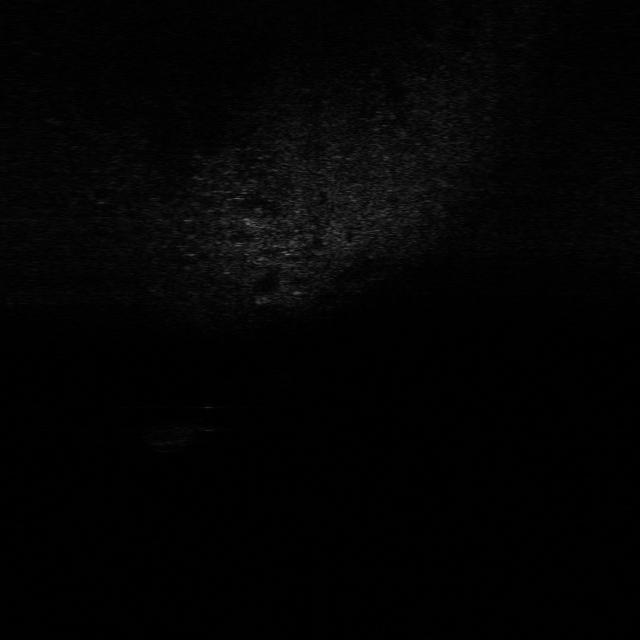ball: (188, 399, 228, 434)
circle cage: (140, 416, 204, 458)
